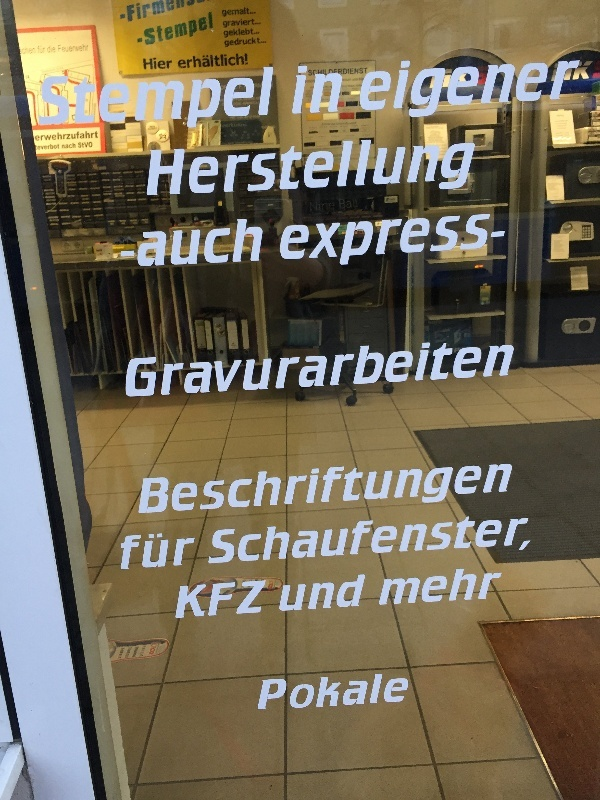text: (145, 66, 161, 139), (49, 66, 64, 139), (65, 66, 80, 139), (81, 66, 96, 139), (97, 66, 112, 139), (113, 66, 128, 139), (129, 66, 144, 139), (369, 55, 384, 127), (385, 55, 400, 127), (401, 55, 416, 127), (417, 55, 432, 127), (433, 55, 448, 127), (449, 55, 464, 127), (465, 55, 480, 127), (481, 55, 496, 127), (497, 55, 512, 127), (513, 55, 528, 127), (529, 55, 544, 127), (545, 55, 560, 127), (561, 55, 576, 127), (129, 336, 144, 400), (145, 336, 160, 400), (161, 336, 176, 400), (177, 336, 192, 400), (193, 336, 208, 400), (209, 336, 224, 400), (225, 336, 240, 400), (241, 336, 256, 400), (257, 336, 272, 400), (273, 336, 288, 400), (289, 336, 304, 400), (305, 336, 320, 400), (321, 336, 336, 400), (337, 336, 352, 400), (353, 336, 368, 400), (369, 336, 384, 400), (385, 336, 400, 400), (401, 336, 416, 400), (417, 336, 432, 400), (433, 336, 448, 400), (449, 336, 464, 400), (465, 336, 480, 400), (481, 336, 496, 400), (497, 336, 512, 400), (161, 137, 176, 199), (177, 137, 192, 199), (193, 137, 208, 199), (209, 137, 224, 199), (225, 137, 240, 199), (241, 137, 256, 199), (257, 137, 272, 199), (273, 137, 288, 199), (289, 137, 304, 199), (305, 137, 320, 199), (321, 137, 336, 199), (337, 137, 352, 199), (353, 137, 368, 199), (369, 137, 384, 199), (385, 137, 400, 199), (401, 137, 416, 199), (417, 137, 432, 199), (433, 137, 448, 199), (449, 137, 464, 199), (145, 457, 160, 516), (161, 457, 176, 516), (177, 457, 192, 516), (193, 457, 208, 516), (209, 457, 224, 516), (225, 457, 240, 516), (241, 457, 256, 516), (257, 457, 272, 516), (273, 457, 288, 516), (289, 457, 304, 516), (305, 457, 320, 516), (321, 457, 336, 516), (337, 457, 352, 516), (353, 457, 368, 516), (369, 457, 384, 516), (385, 457, 400, 516), (401, 457, 416, 516), (417, 457, 432, 516), (433, 457, 448, 516), (449, 457, 464, 516), (465, 457, 480, 516), (481, 457, 496, 516), (497, 457, 512, 516), (289, 213, 304, 271), (305, 213, 320, 271), (321, 213, 336, 271), (337, 213, 352, 271), (353, 213, 368, 271), (369, 213, 384, 271), (385, 213, 400, 271), (401, 213, 416, 271), (417, 213, 432, 271), (433, 213, 448, 271), (449, 213, 464, 271), (465, 213, 480, 271), (481, 213, 496, 271), (145, 217, 160, 269), (161, 217, 176, 269), (177, 217, 192, 269), (193, 217, 208, 269), (209, 217, 224, 269), (225, 217, 240, 269), (241, 217, 256, 269), (225, 516, 240, 567), (241, 516, 256, 567), (257, 516, 272, 567), (273, 516, 288, 567), (289, 516, 304, 567), (305, 516, 320, 567), (321, 516, 336, 567), (337, 516, 352, 567), (353, 516, 368, 567), (369, 516, 384, 567), (385, 516, 400, 567), (401, 516, 416, 567), (417, 516, 432, 567), (433, 516, 448, 567), (449, 516, 464, 567), (465, 516, 480, 567), (481, 516, 496, 567), (497, 516, 512, 567), (513, 516, 528, 567), (305, 65, 320, 115), (321, 65, 336, 115), (465, 137, 477, 199), (145, 12, 160, 52), (161, 12, 176, 52), (177, 12, 192, 52), (193, 12, 208, 52), (273, 672, 288, 711), (289, 672, 304, 711), (305, 672, 320, 711), (321, 672, 336, 711), (337, 672, 352, 711), (353, 672, 368, 711), (369, 672, 384, 711), (385, 672, 400, 711), (497, 213, 507, 271), (401, 568, 416, 606), (417, 568, 432, 606), (433, 568, 448, 606), (449, 568, 464, 606), (465, 568, 480, 606), (481, 568, 496, 606), (129, 532, 144, 570), (145, 532, 160, 570), (161, 532, 176, 570), (177, 532, 192, 570), (151, 137, 160, 199), (289, 575, 304, 612), (305, 575, 320, 612), (321, 575, 336, 612), (337, 575, 352, 612), (193, 582, 208, 619), (209, 582, 224, 619), (225, 582, 240, 619), (241, 582, 256, 619), (386, 568, 400, 606), (353, 575, 367, 612), (401, 672, 414, 711), (257, 217, 266, 269), (216, 516, 224, 567), (181, 582, 192, 619), (513, 336, 519, 400), (129, 1, 144, 26), (145, 1, 160, 26), (161, 1, 176, 26), (257, 582, 267, 619), (577, 55, 582, 127), (337, 65, 344, 115), (136, 12, 144, 52), (264, 672, 272, 711), (283, 213, 288, 271), (497, 568, 504, 606), (299, 65, 304, 115), (118, 1, 128, 26), (193, 53, 208, 69), (209, 53, 224, 69), (225, 53, 240, 69), (122, 532, 128, 570), (177, 1, 186, 26), (178, 53, 192, 69), (45, 66, 48, 139), (365, 55, 368, 127), (529, 516, 533, 567), (209, 12, 214, 52), (145, 57, 160, 70), (225, 36, 240, 49), (241, 36, 256, 49), (193, 532, 198, 570), (321, 200, 335, 213), (225, 27, 240, 39), (241, 27, 256, 39), (513, 457, 516, 516), (225, 17, 240, 28), (241, 17, 256, 28), (49, 131, 64, 142), (65, 131, 80, 142), (81, 131, 96, 142), (241, 7, 257, 17), (161, 57, 173, 70), (339, 198, 352, 210), (225, 7, 240, 17), (65, 44, 80, 54), (321, 68, 336, 77), (337, 68, 352, 77), (353, 68, 368, 77), (36, 131, 48, 142), (257, 36, 267, 49), (310, 200, 320, 213), (241, 53, 248, 69), (285, 575, 288, 612), (308, 68, 320, 77), (35, 144, 48, 151), (225, 123, 240, 129), (81, 143, 93, 150), (81, 44, 89, 54), (38, 46, 48, 54), (22, 48, 32, 56), (49, 144, 60, 151), (353, 198, 359, 210), (65, 143, 76, 149), (49, 45, 56, 54), (58, 44, 64, 54), (257, 17, 262, 28), (241, 123, 248, 129), (257, 27, 260, 39), (257, 83, 262, 89), (33, 48, 36, 56), (97, 131, 99, 142), (222, 7, 224, 17), (221, 85, 224, 91), (78, 143, 80, 150), (143, 57, 144, 70), (222, 123, 224, 129), (225, 85, 227, 91), (254, 83, 256, 89), (62, 143, 64, 149), (223, 17, 224, 28), (239, 85, 240, 90), (241, 85, 242, 90)
